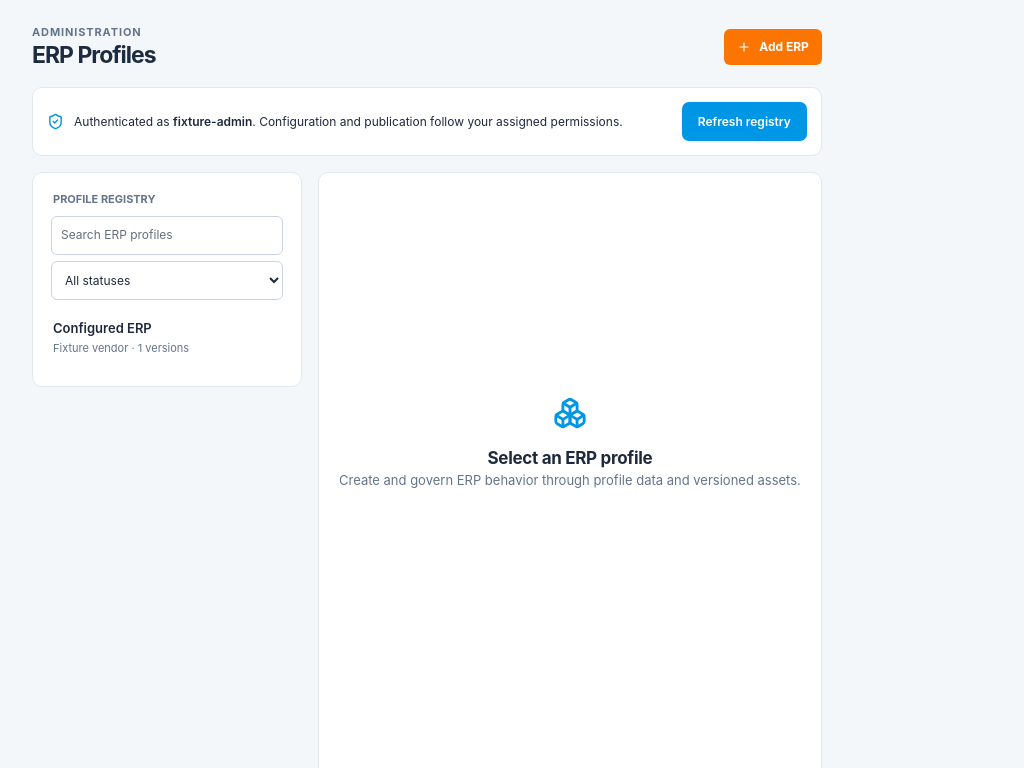
Test: ERP administration capability controls › allows configuration but disables publishing for a configurator
Click the button "Configured ERP Fixture vendor · 1 versions": (167, 340) x1=43 y1=308 x2=291 y2=373
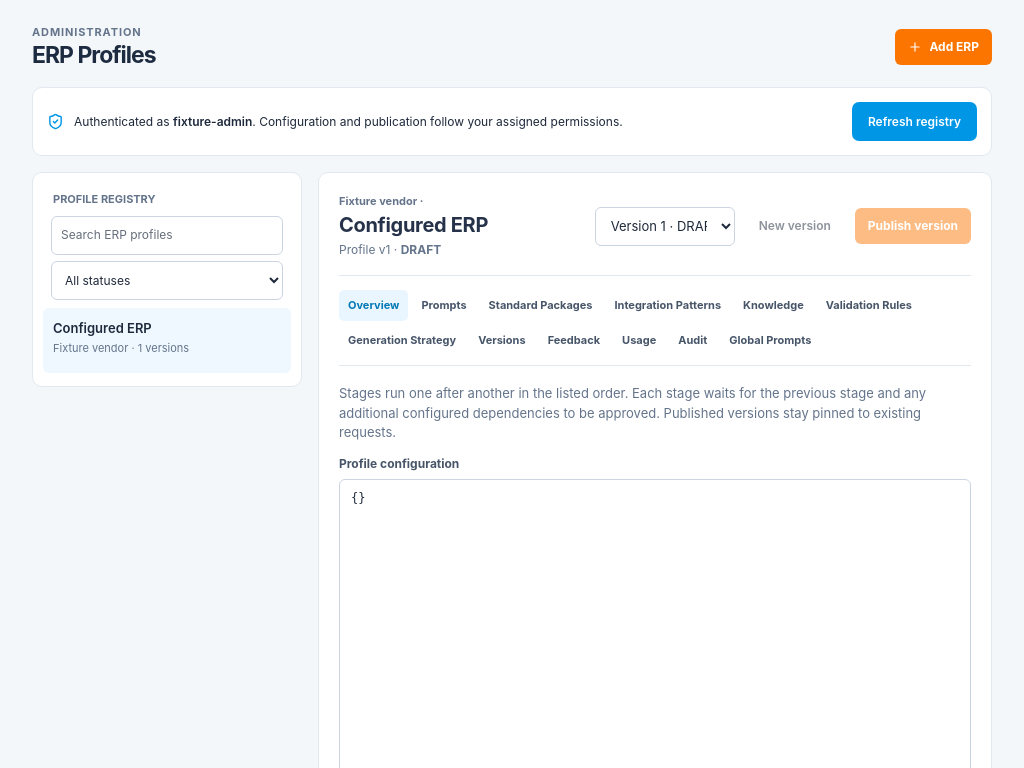
Expected: the button "Add ERP" is enabled, x1=894 y1=29 x2=992 y2=65
Expected: the button "Publish version" is disabled, x1=855 y1=208 x2=971 y2=244
